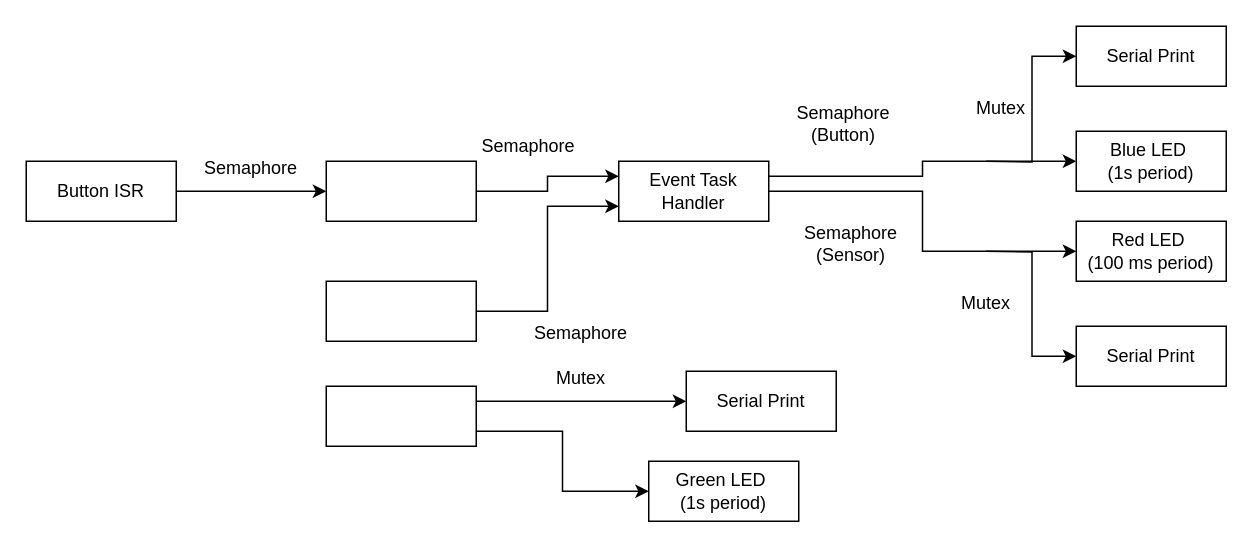
Image size: 1253x548. Some labels were removed from this diagram. Each missing label, with the centre of its shape:
"Button Task (Hard)" belongs at point (400, 190).
"Heartbeat Task (Soft)" belongs at point (400, 415).
"Sensor Task (Hard)" belongs at point (400, 310).
